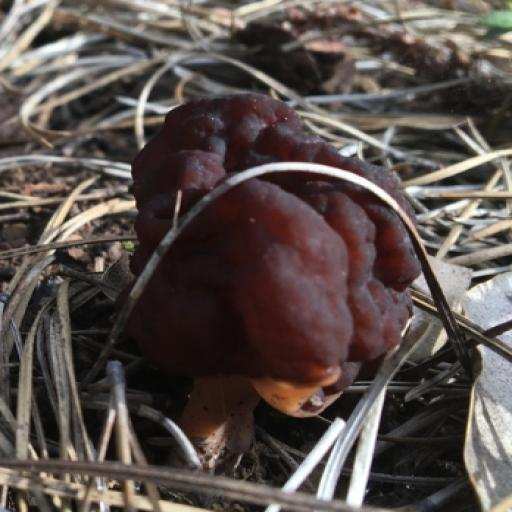mushroom: (84, 117, 461, 488)
